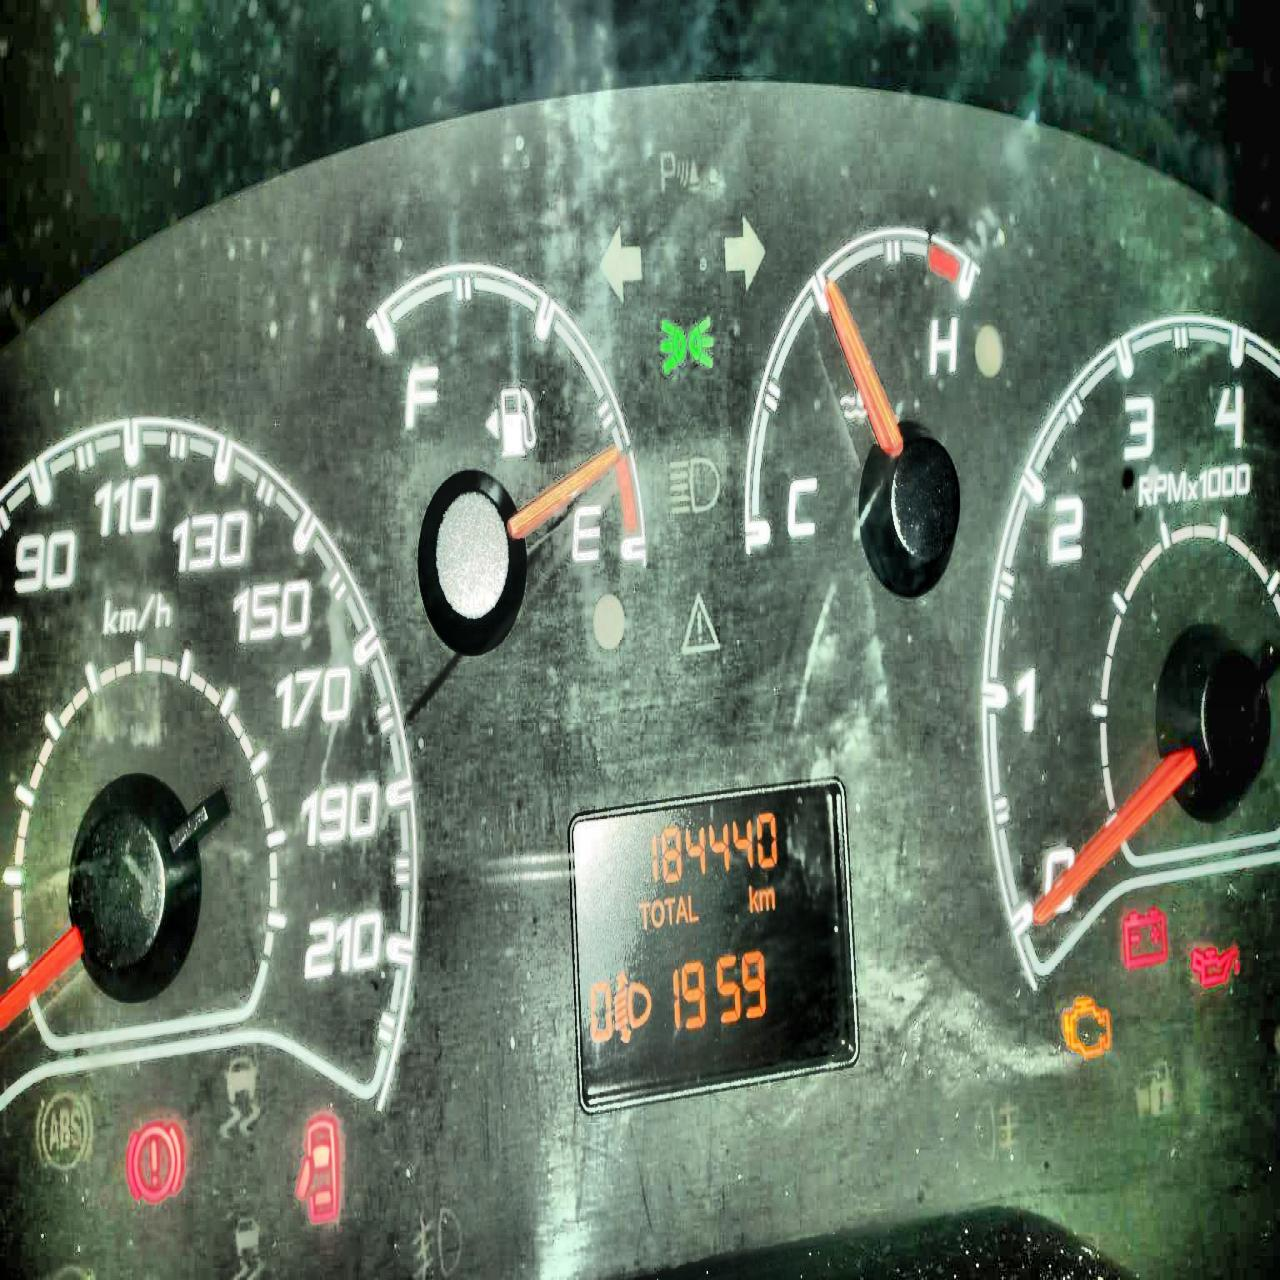0: (590, 979, 611, 1043), (755, 810, 777, 869)
1: (672, 966, 680, 1032), (649, 832, 659, 881)
4: (731, 816, 754, 870), (708, 822, 730, 874), (685, 825, 706, 877)
5: (716, 953, 741, 1021)
8: (660, 825, 681, 883)
9: (741, 949, 767, 1020), (681, 959, 706, 1029)
X: (758, 887, 776, 912), (651, 897, 665, 927), (675, 893, 688, 925), (748, 883, 760, 914), (688, 892, 700, 922), (663, 897, 675, 927), (639, 899, 649, 931)
odometer: (564, 769, 860, 1118)
